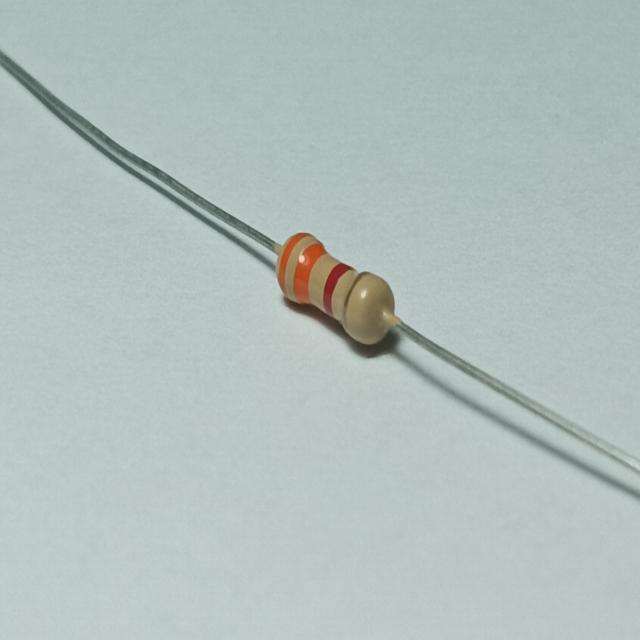3.3k ohms: (258, 223, 417, 371)
